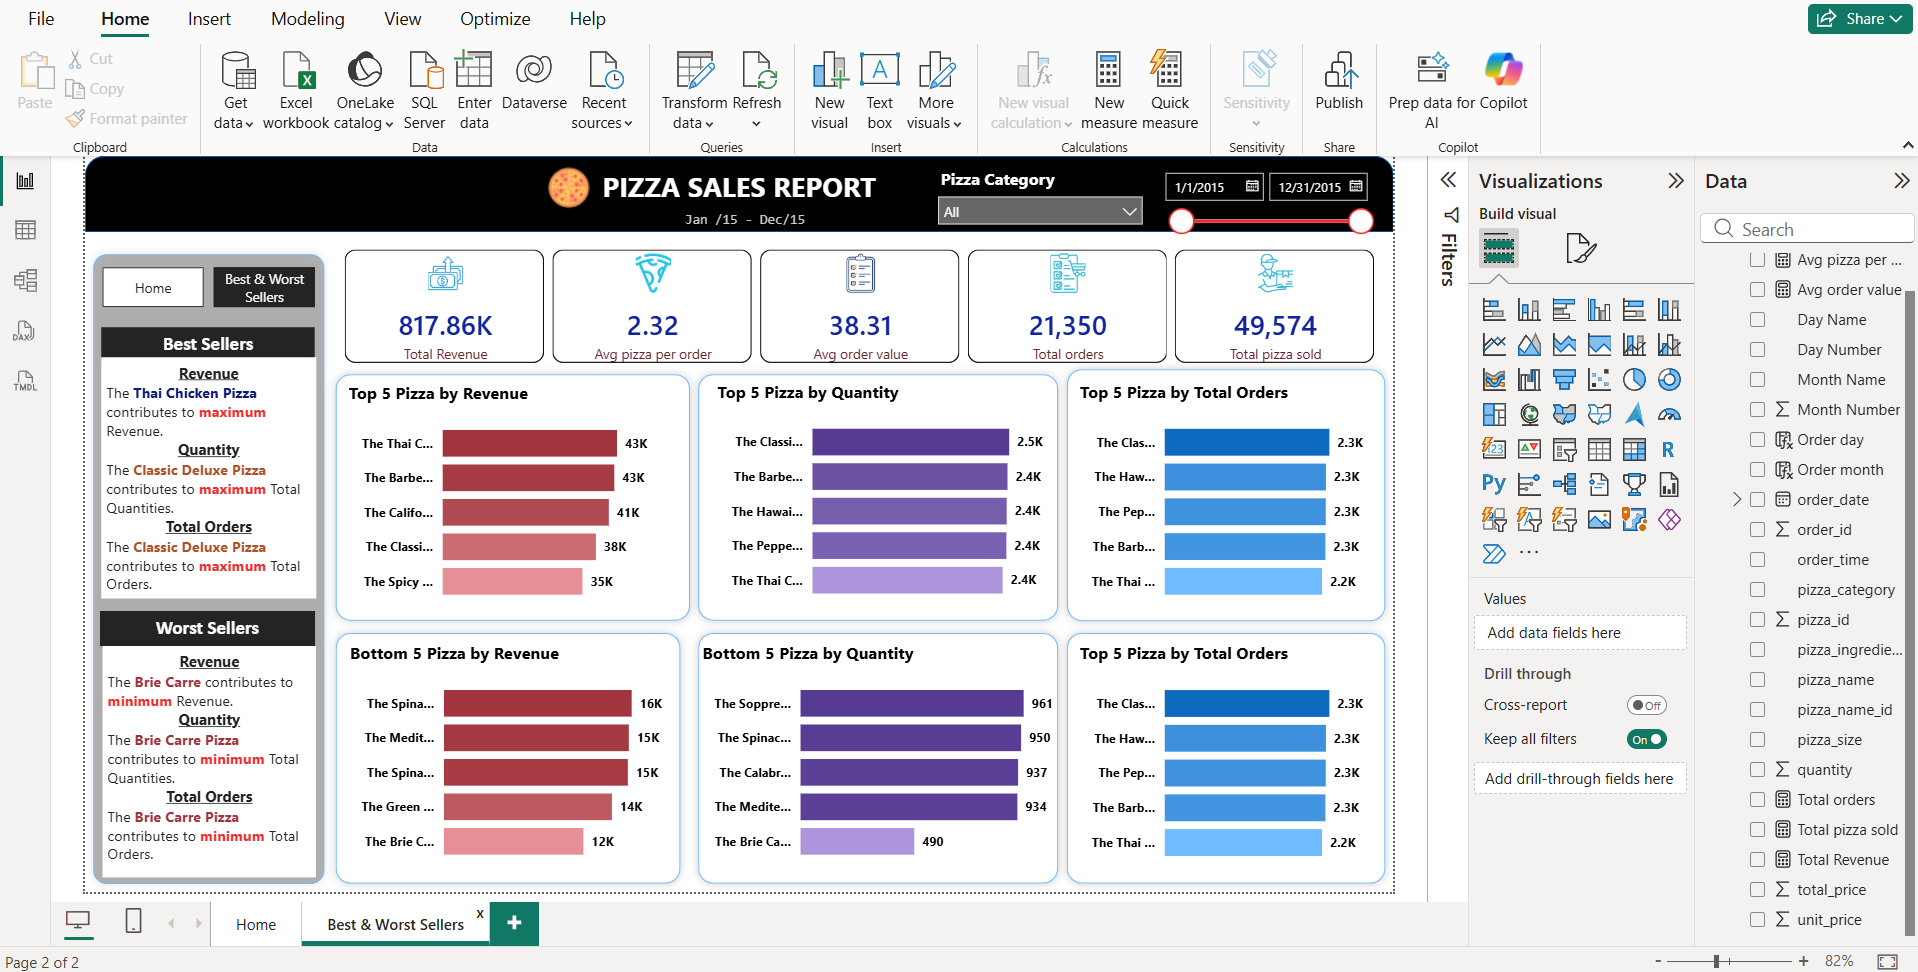

What the dashboard file says about the page in this screenshot:
{"tool":"powerbi","page":{"name":"Best & Worst Sellers","canvas":[1280,720],"ordinal":1},"visuals":[{"type":"shape","box":[0,88,242.1,632.2],"z":0},{"type":"cardVisual","fields":{"Data":["pizza_sales.Total Revenue","pizza_sales.Avg  pizza per order","pizza_sales.Avg order value","pizza_sales.Total orders","pizza_sales.Total pizza sales"]},"box":[237.2,74.6,1043.1,145.5],"z":1000},{"type":"shape","box":[0,0,1280.3,74.6],"z":2000},{"type":"textbox","box":[473.2,6.1,333.8,42.8],"z":3000},{"type":"textbox","box":[582.1,47.7,192,47.7],"z":4000},{"type":"image","box":[435.3,6.1,75.8,40.4],"z":5000},{"type":"shape","box":[236.8,205.7,362.7,257.1],"z":6000},{"type":"textbox","box":[15.9,167.5,209.1,33],"z":7000},{"type":"textbox","box":[15.9,196.9,210.3,236],"z":8000},{"type":"textbox","box":[14.7,445.1,210.3,34.2],"z":9000},{"type":"textbox","box":[17.1,479.4,209.1,226.2],"z":10000},{"type":"slicer","fields":{"Values":["pizza_sales.pizza_category"]},"box":[824.2,6.1,220.1,68.5],"z":11000},{"type":"slicer","fields":{"Values":["pizza_sales.order_date"]},"box":[1044.3,6.1,225,81.9],"z":12000},{"type":"shape","box":[591.4,205.7,368.1,257.1],"z":13000},{"type":"shape","box":[952.8,200.3,327.5,262.6],"z":14000},{"type":"shape","box":[236.8,458.8,353.2,261.2],"z":15000},{"type":"shape","box":[591.4,458.8,368.1,261.2],"z":16000},{"type":"shape","box":[952.8,458.8,327.5,261.2],"z":17000},{"type":"barChart","title":"Top 5 Pizza  by Revenue","fields":{"Category":["pizza_sales.pizza_name"],"Y":["pizza_sales.Total Revenue"]},"box":[253.1,220.1,337.5,228.7],"z":18000},{"type":"barChart","title":"Bottom 5 Pizza  by Revenue","fields":{"Category":["pizza_sales.pizza_name"],"Y":["pizza_sales.Total Revenue"]},"box":[254.3,474.5,337.5,228.7],"z":19000},{"type":"barChart","title":"Top 5 Pizza  by Quantity","fields":{"Category":["pizza_sales.pizza_name"],"Y":["pizza_sales.Total pizza sold"]},"box":[614.4,219.2,338.3,228.7],"z":20000},{"type":"barChart","title":"Bottom 5 Pizza  by Quantity","fields":{"Category":["pizza_sales.pizza_name"],"Y":["pizza_sales.Total pizza sold"]},"box":[599.5,475,353.2,228.7],"z":21000},{"type":"barChart","title":"Top 5 Pizza  by Total Orders","fields":{"Category":["pizza_sales.pizza_name"],"Y":["pizza_sales.Total orders"]},"box":[969,219.2,300.4,230.1],"z":22000},{"type":"barChart","title":"Top 5 Pizza  by Total Orders","fields":{"Category":["pizza_sales.pizza_name"],"Y":["pizza_sales.Total orders"]},"box":[969,475,300.4,230.1],"z":23000},{"type":"pageNavigator","box":[17.6,108.3,209.8,39.2],"z":24000}]}

Visuals, with their boxes on the page's 1280x720 design canvas (x1, y1, x2, y2). These are canvas units, not pixel positions in the 1918x972 screenshot, which may show the page scaled, cropped or inside an application window:
shape: left=0, top=88, right=242, bottom=720
cardVisual - pizza_sales.Total Revenue x pizza_sales.Avg  pizza per order: left=237, top=75, right=1280, bottom=220
shape: left=0, top=0, right=1280, bottom=75
textbox: left=473, top=6, right=807, bottom=49
textbox: left=582, top=48, right=774, bottom=95
image: left=435, top=6, right=511, bottom=46
shape: left=237, top=206, right=600, bottom=463
textbox: left=16, top=168, right=225, bottom=200
textbox: left=16, top=197, right=226, bottom=433
textbox: left=15, top=445, right=225, bottom=479
textbox: left=17, top=479, right=226, bottom=706
slicer - pizza_sales.pizza_category: left=824, top=6, right=1044, bottom=75
slicer - pizza_sales.order_date: left=1044, top=6, right=1269, bottom=88
shape: left=591, top=206, right=960, bottom=463
shape: left=953, top=200, right=1280, bottom=463
shape: left=237, top=459, right=590, bottom=720
shape: left=591, top=459, right=960, bottom=720
shape: left=953, top=459, right=1280, bottom=720
"Top 5 Pizza  by Revenue" barChart: left=253, top=220, right=591, bottom=449
"Bottom 5 Pizza  by Revenue" barChart: left=254, top=474, right=592, bottom=703
"Top 5 Pizza  by Quantity" barChart: left=614, top=219, right=953, bottom=448
"Bottom 5 Pizza  by Quantity" barChart: left=600, top=475, right=953, bottom=704
"Top 5 Pizza  by Total Orders" barChart: left=969, top=219, right=1269, bottom=449
"Top 5 Pizza  by Total Orders" barChart: left=969, top=475, right=1269, bottom=705
pageNavigator: left=18, top=108, right=227, bottom=148
